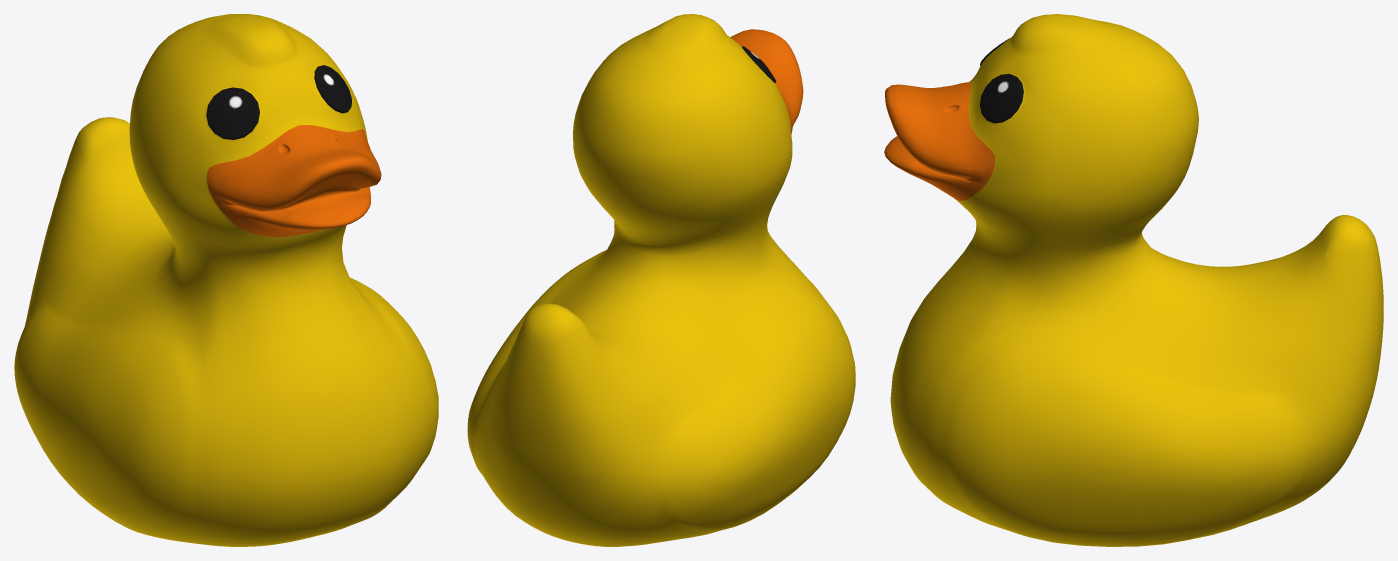
File: rubber_duck.glb
The picture shows the model from 3 angles, left to right: view 1: azimuth 30°, elevation 25°; view 2: azimuth 150°, elevation 25°; view 3: azimuth 270°, elevation 25°; orthographic projection. The views are drawn at different scales.
Parts seen in each view (by area): view 1: Object_2; view 2: Object_2; view 3: Object_2.
Part boxes in pixels (x1,y1,x2,y2): Object_2: (14,14,438,546); Object_2: (467,14,855,546); Object_2: (884,14,1383,546).
Size of the model in its own units: 0.725 by 1.05 by 0.9954.
1 material, 1 textured.
